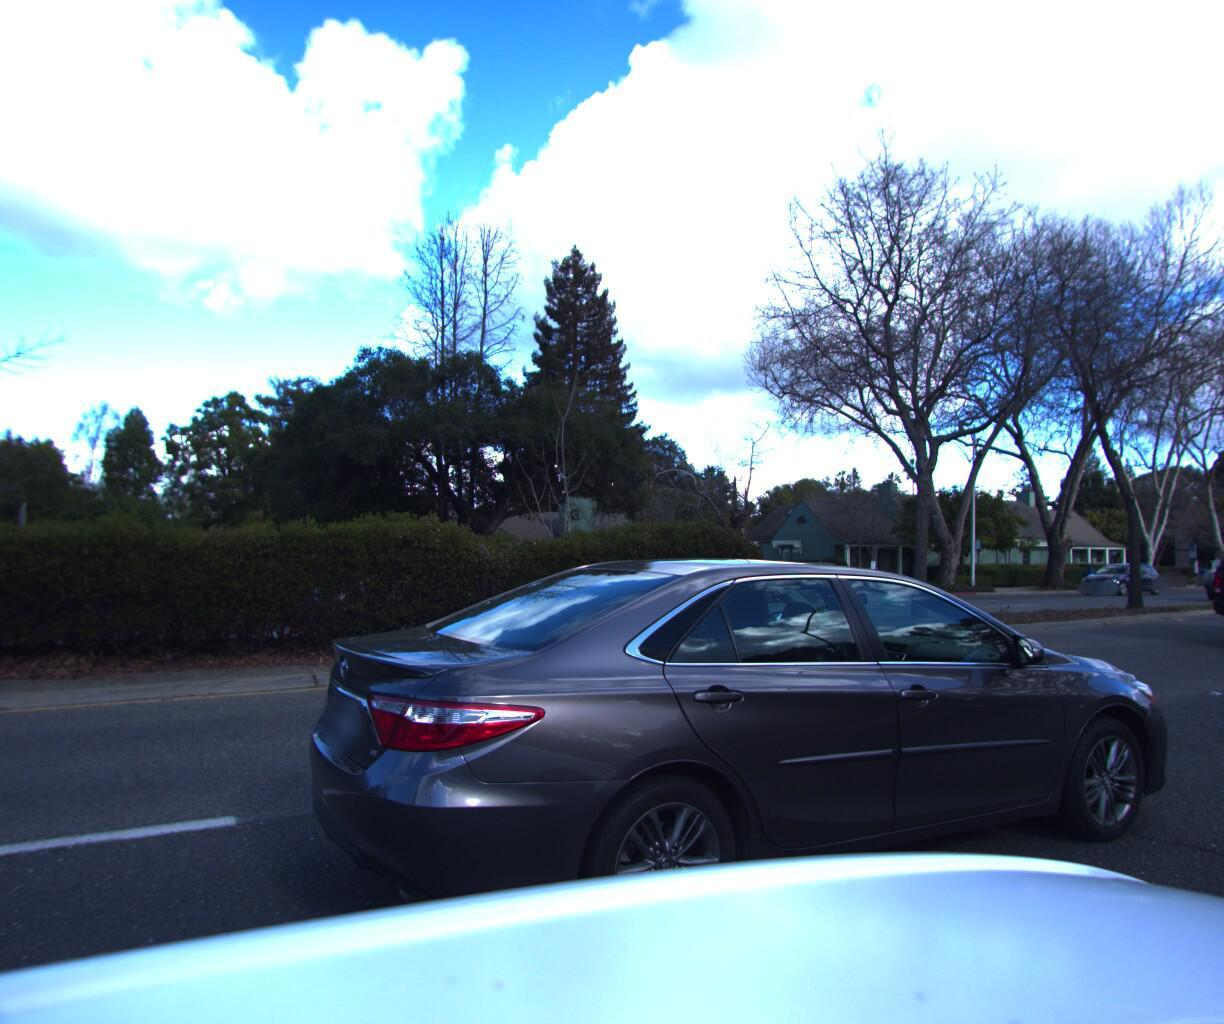car: (255, 521, 1190, 1024), (738, 557, 853, 598), (1197, 514, 1224, 656), (1064, 559, 1163, 597)
